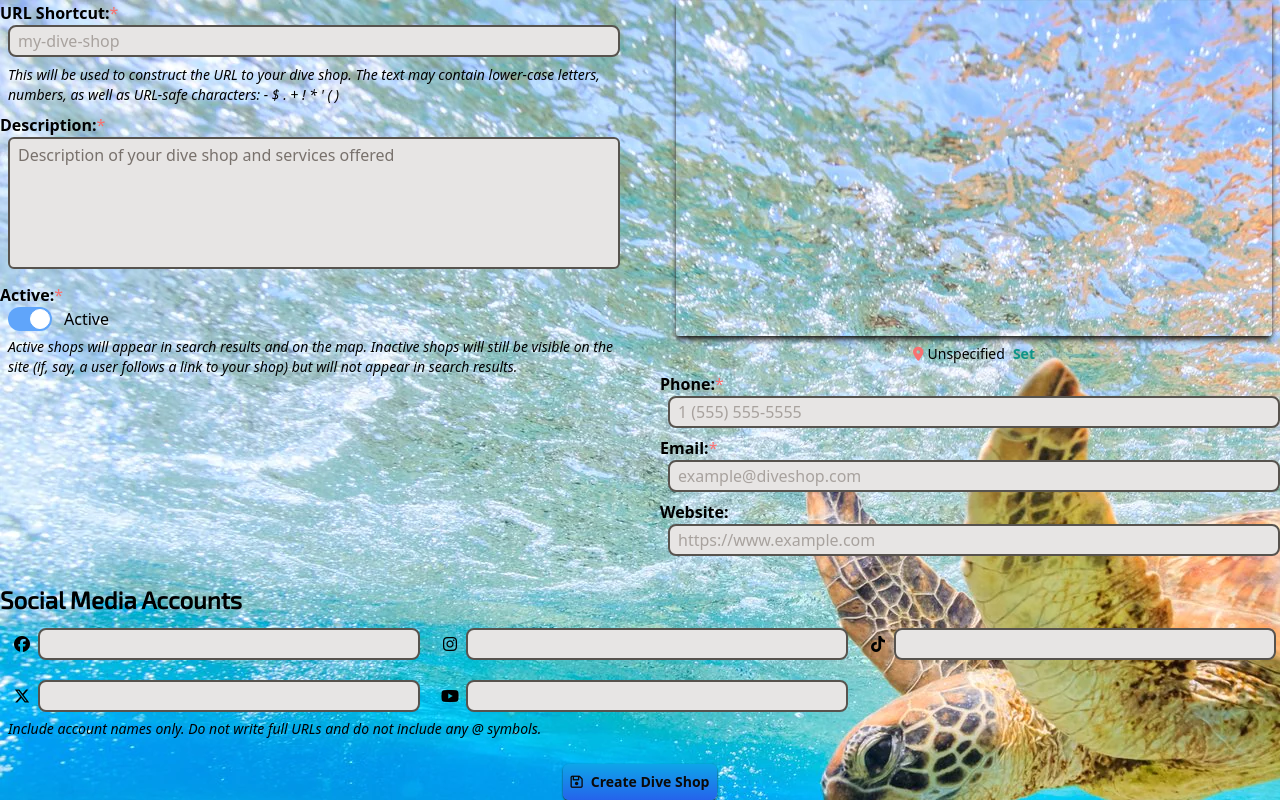
it: EditOperatorInfo component › will validate for missing fields
(page scrolled)
Click the button with id "btn-save-operator" at [640, 782], box [562,764,717,799]
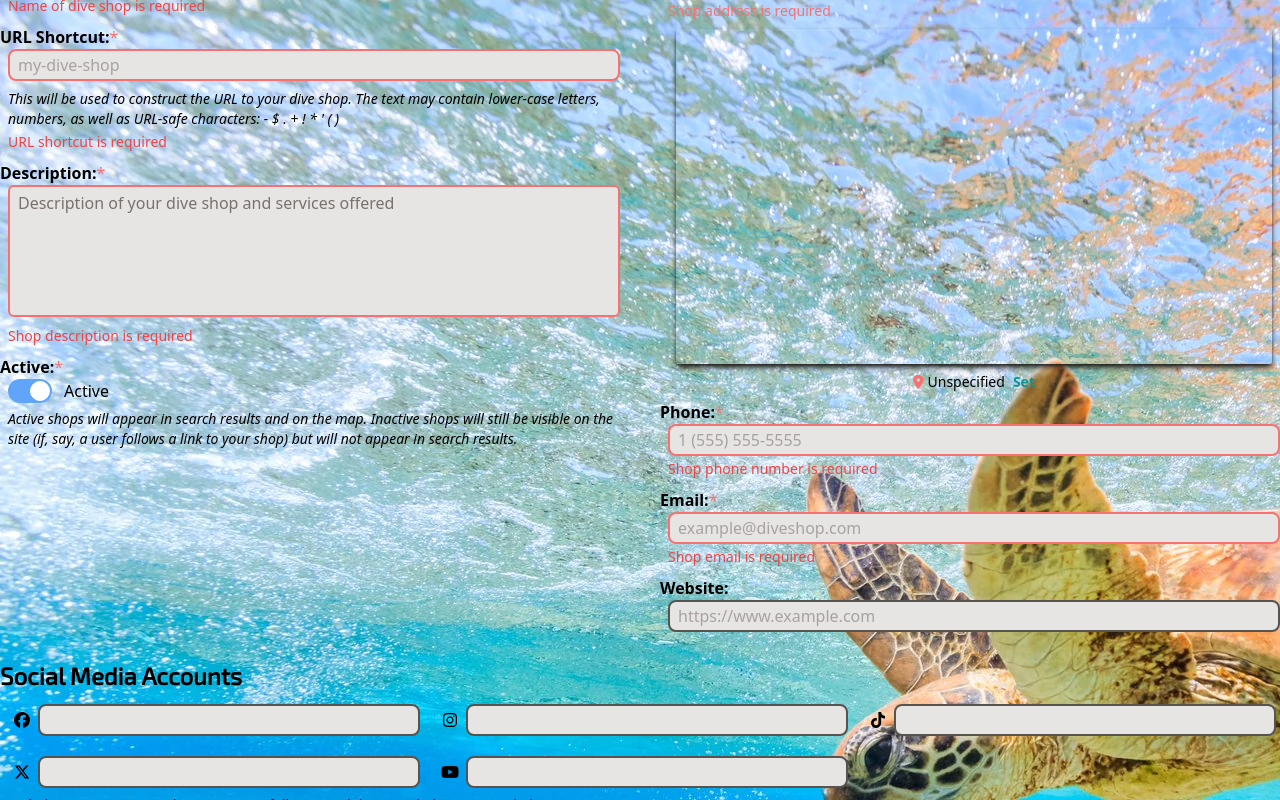
expect the text with test id "operator-slug-error" reads "URL shortcut is required": met, box [8,132,167,151]
expect the text with test id "operator-description-error" reads "Shop description is required": met, box [8,326,193,345]
expect the text with test id "operator-address-error" reads "Shop address is required": met, box [668,1,831,20]
